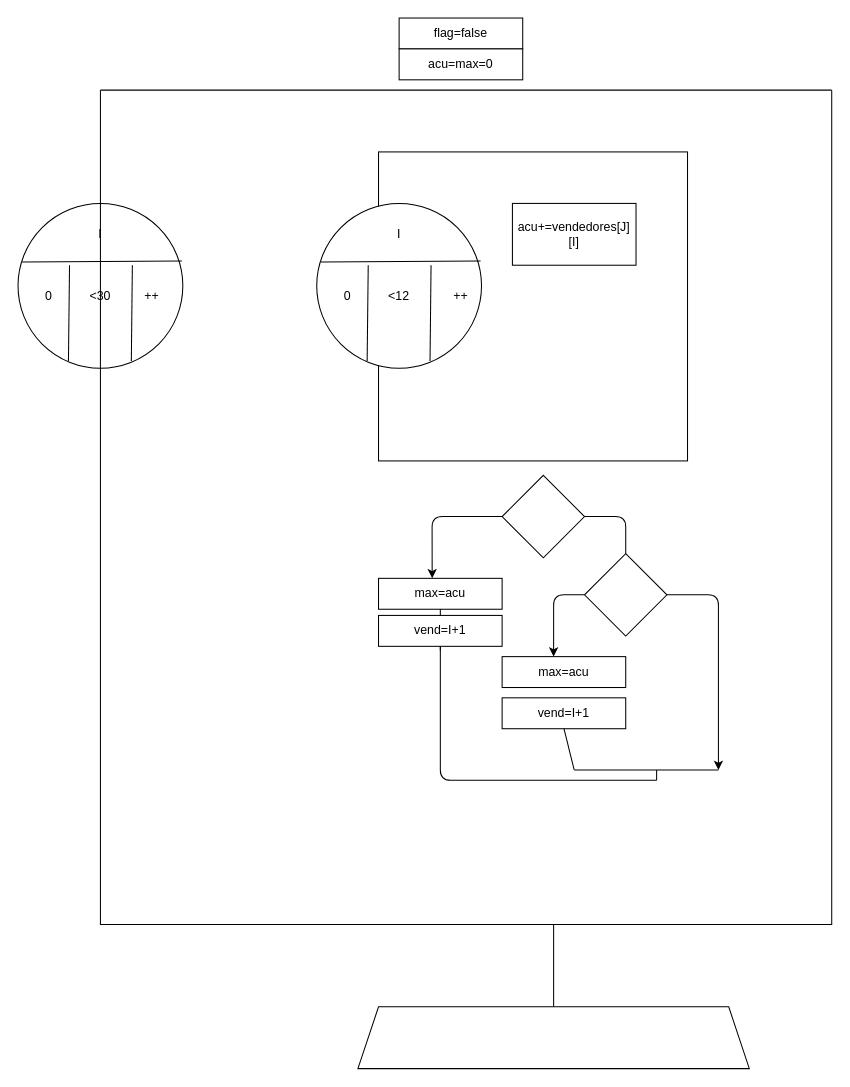
This 850x1087 diagram has some shape labels left out. The centre of each missing label's shape, as x and y in pixels:
acu>max: [625,594]
El vendedor que mas recaudo fue: , vend: [553,1037]
flag==false: [543,516]
